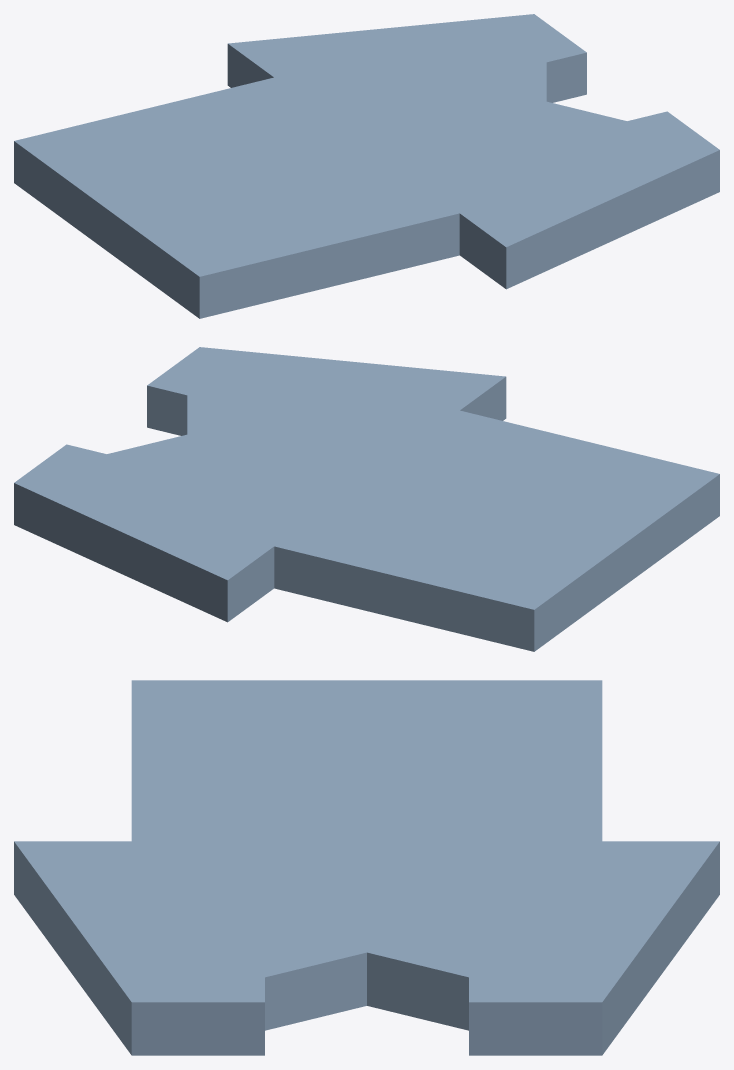
File: BulletproofVest.fbx
3 views of the same model, one above another, from view 1: azimuth 30°, elevation 25°; view 2: azimuth 150°, elevation 25°; view 3: azimuth 270°, elevation 25° (orthographic). The views are drawn at different scales.
Visible parts, largest first — view 1: BulletproofVest; view 2: BulletproofVest; view 3: BulletproofVest.
Boxes of the visible parts, <box> form: BulletproofVest: <box>14,14,719,318</box>; BulletproofVest: <box>14,347,719,651</box>; BulletproofVest: <box>14,680,719,1055</box>.
Size of the model in its own units: 0.5096 by 0.0394 by 0.4724.
